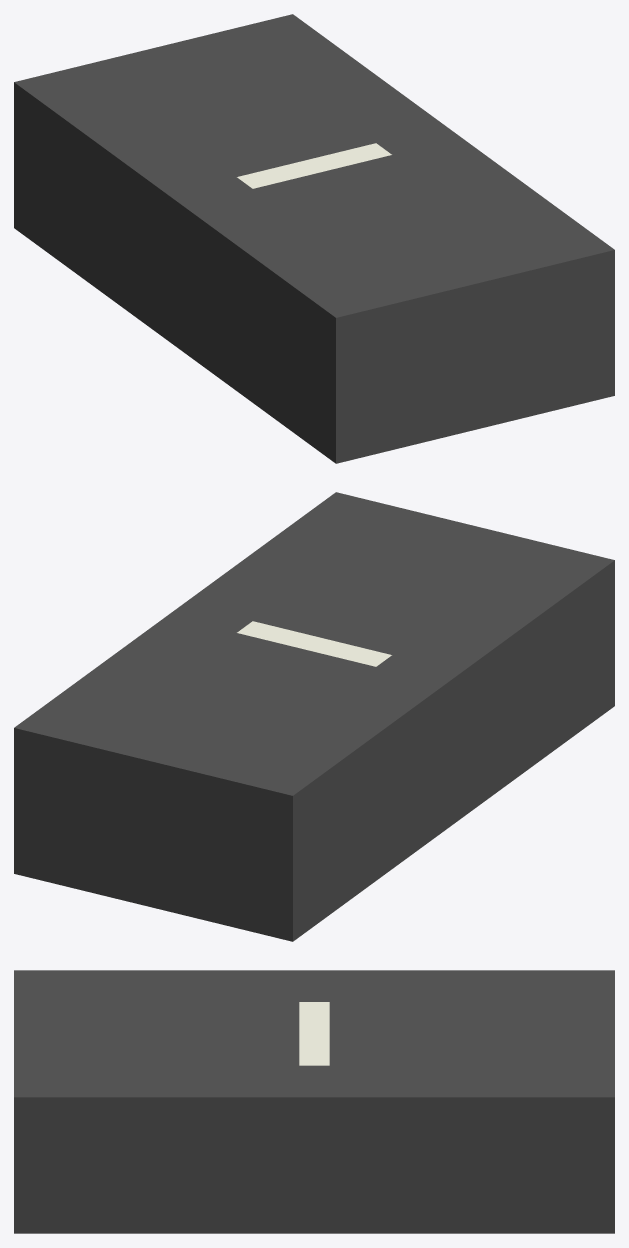
Rendered from carrereta2.obj.
The picture shows the model from 3 angles, top to bottom: view 1: azimuth 30°, elevation 25°; view 2: azimuth 150°, elevation 25°; view 3: azimuth 270°, elevation 25°; orthographic projection. The views are drawn at different scales.
Size of the model in its own units: 40 by 20 by 80.
1 material, 1 textured.
